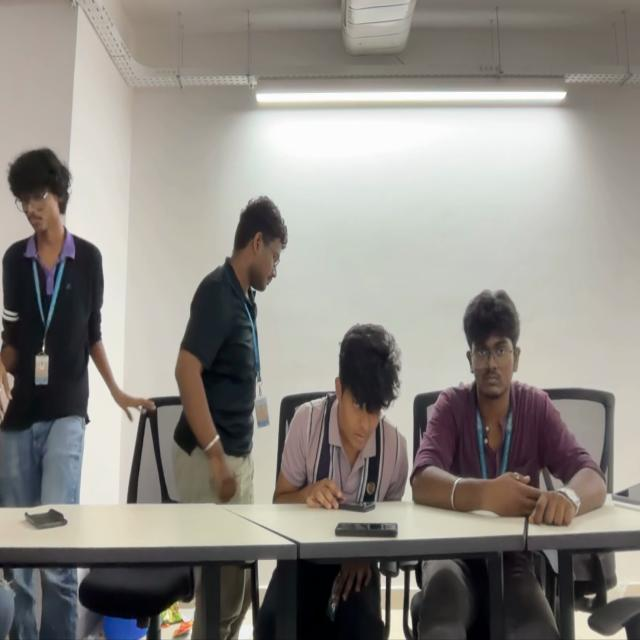Isolated: (413, 288, 602, 512), (0, 144, 102, 507), (178, 188, 270, 507), (277, 321, 407, 506)
